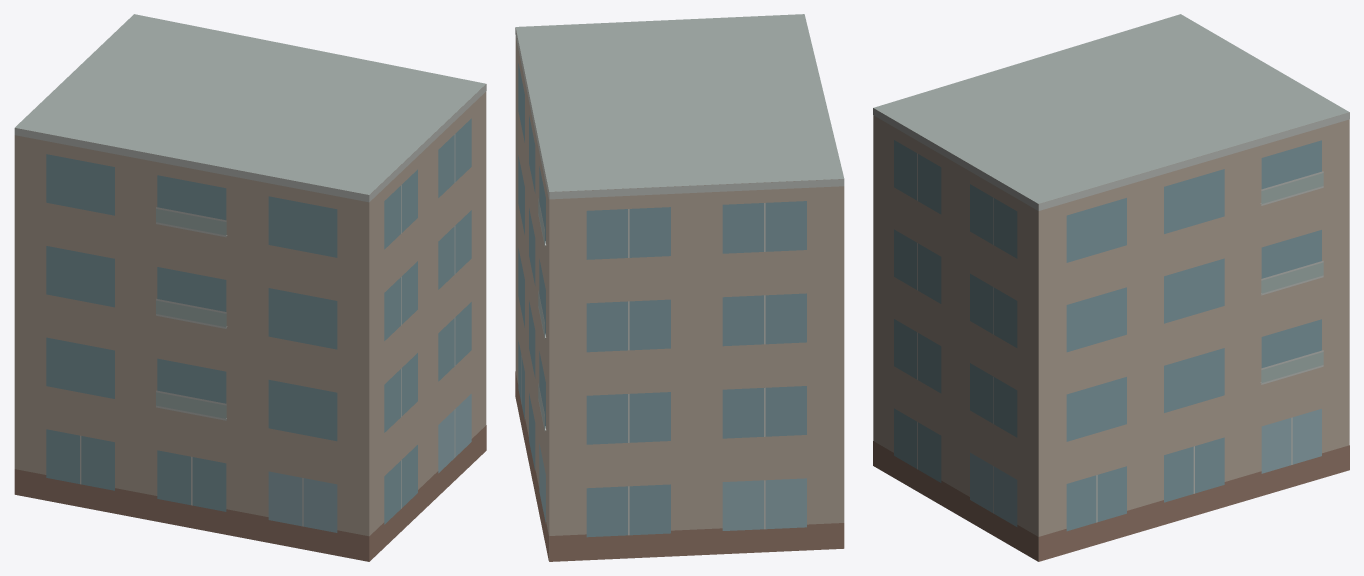
File: survey-upis-32950543.glb
3 renders of one model, left to right at view 1: azimuth 30°, elevation 25°; view 2: azimuth 150°, elevation 25°; view 3: azimuth 270°, elevation 25°, orthographic. The views are drawn at different scales.
Visible parts, largest first — view 1: survey-upis-32950543.tmp; view 2: survey-upis-32950543.tmp; view 3: survey-upis-32950543.tmp.
Boxes of the visible parts, x1=… form: survey-upis-32950543.tmp: x1=14, y1=14, x2=486, y2=561; survey-upis-32950543.tmp: x1=515, y1=14, x2=844, y2=561; survey-upis-32950543.tmp: x1=873, y1=14, x2=1349, y2=561.
Size of the model in its own units: 13.9 by 12.2 by 14.73.
